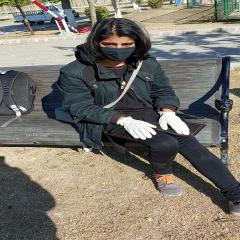gloved: (117, 116, 156, 140), (160, 112, 190, 135)
